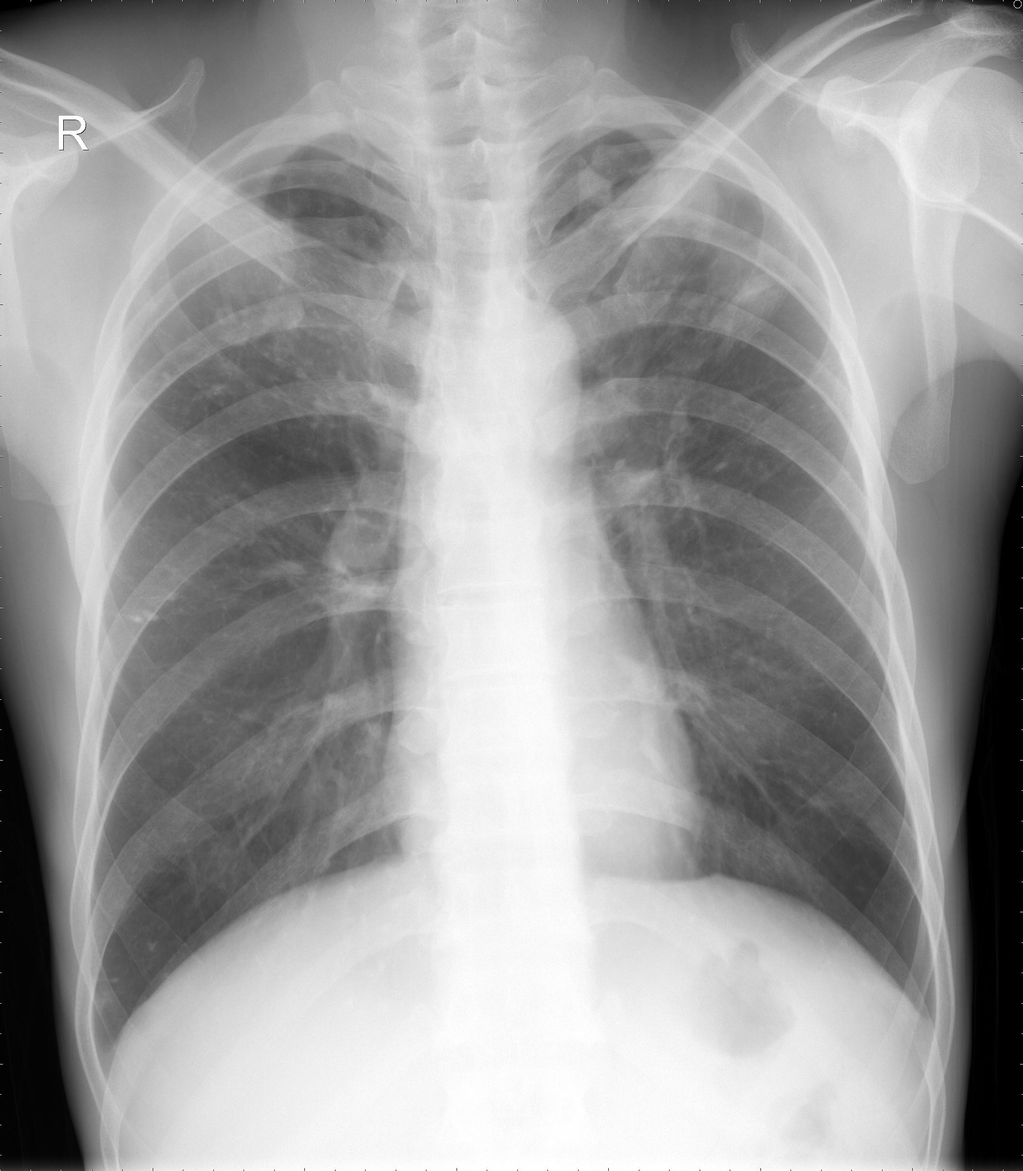Pulmonary fibrosis: (109, 200, 369, 426), (599, 171, 792, 367)
